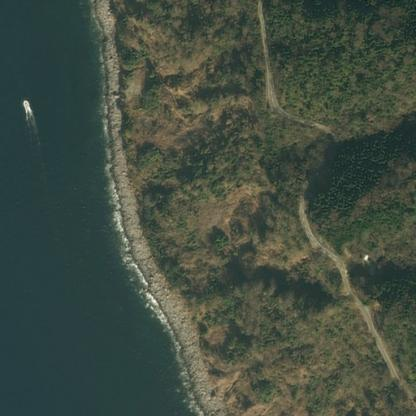ship: (16, 94, 35, 116)
